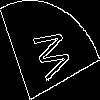W: (25, 24, 73, 86)
